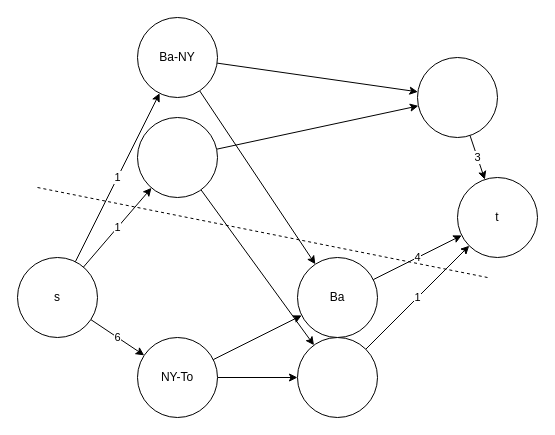
Image size: 555x435. Some labels were removed from this diagram. The shapes that lost their labels are listed below. From the top down, each one's centre as x and y in pixels, then its label:
At (x=457, y=97): "NY".
At (x=177, y=157): "Ba-To".
At (x=337, y=377): "To".
